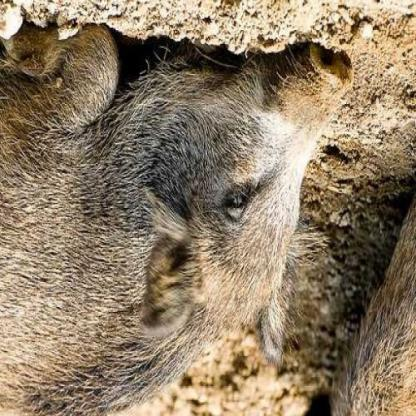boar: (0, 26, 369, 416)
